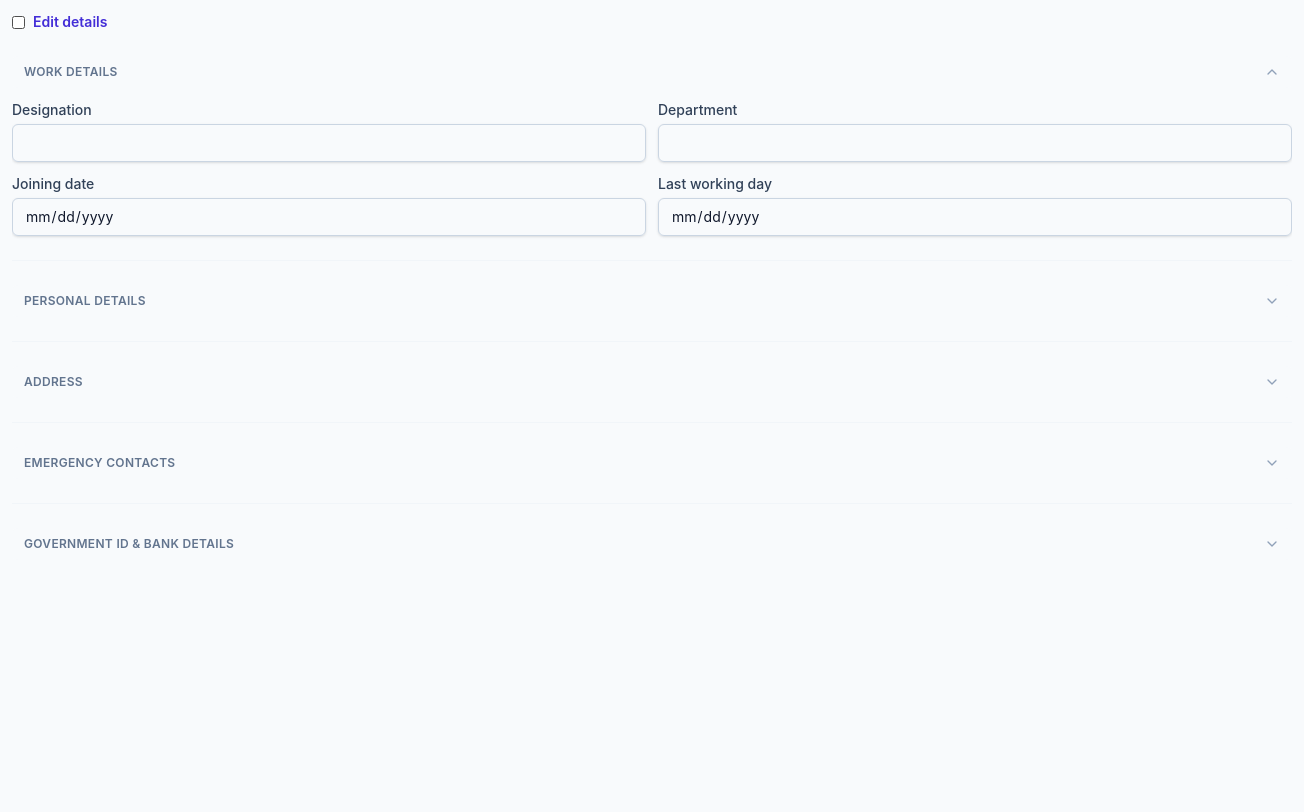
Test: ProfileForm › switches back to read-only after a successful save
Click the checkbox labelled "Edit details".
click(18, 22)  # box [12,16,25,28]
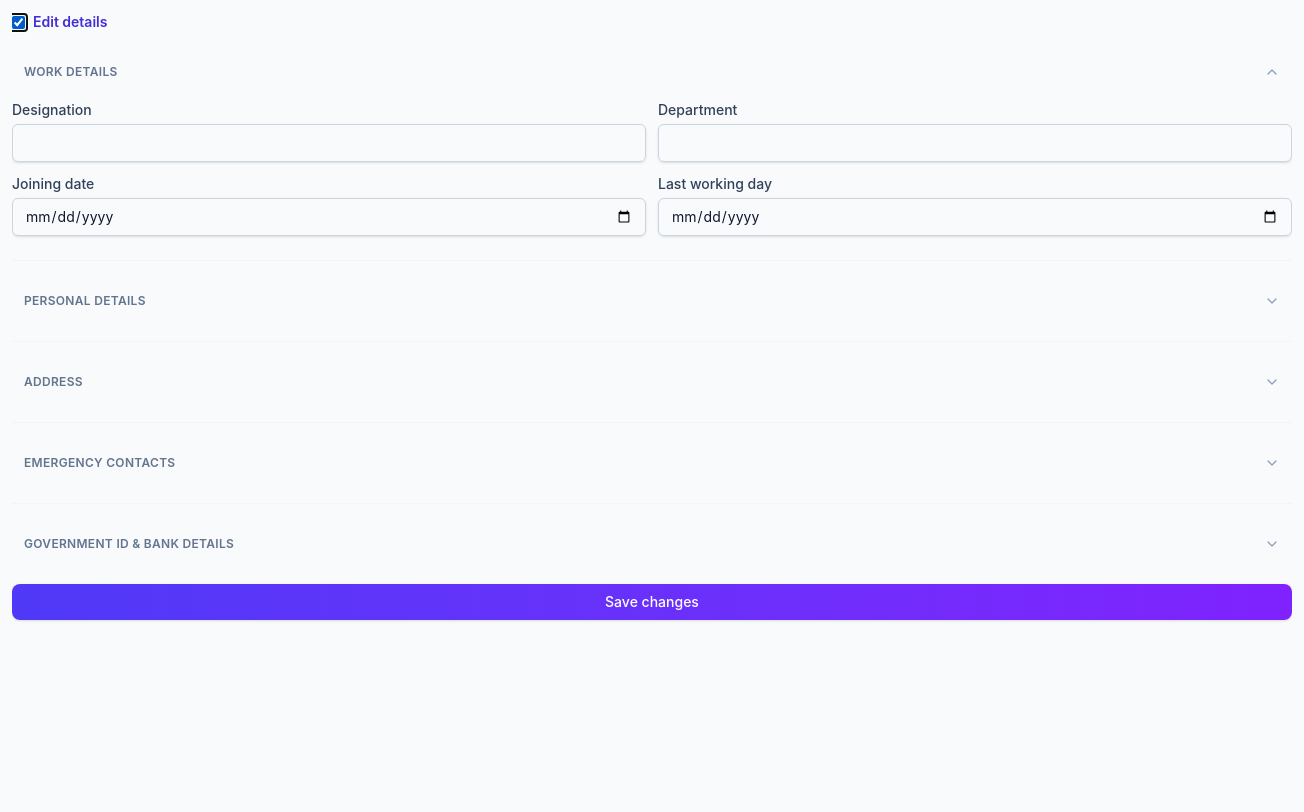
Click the button "Save changes".
click(652, 602)  # box [12,584,1292,620]
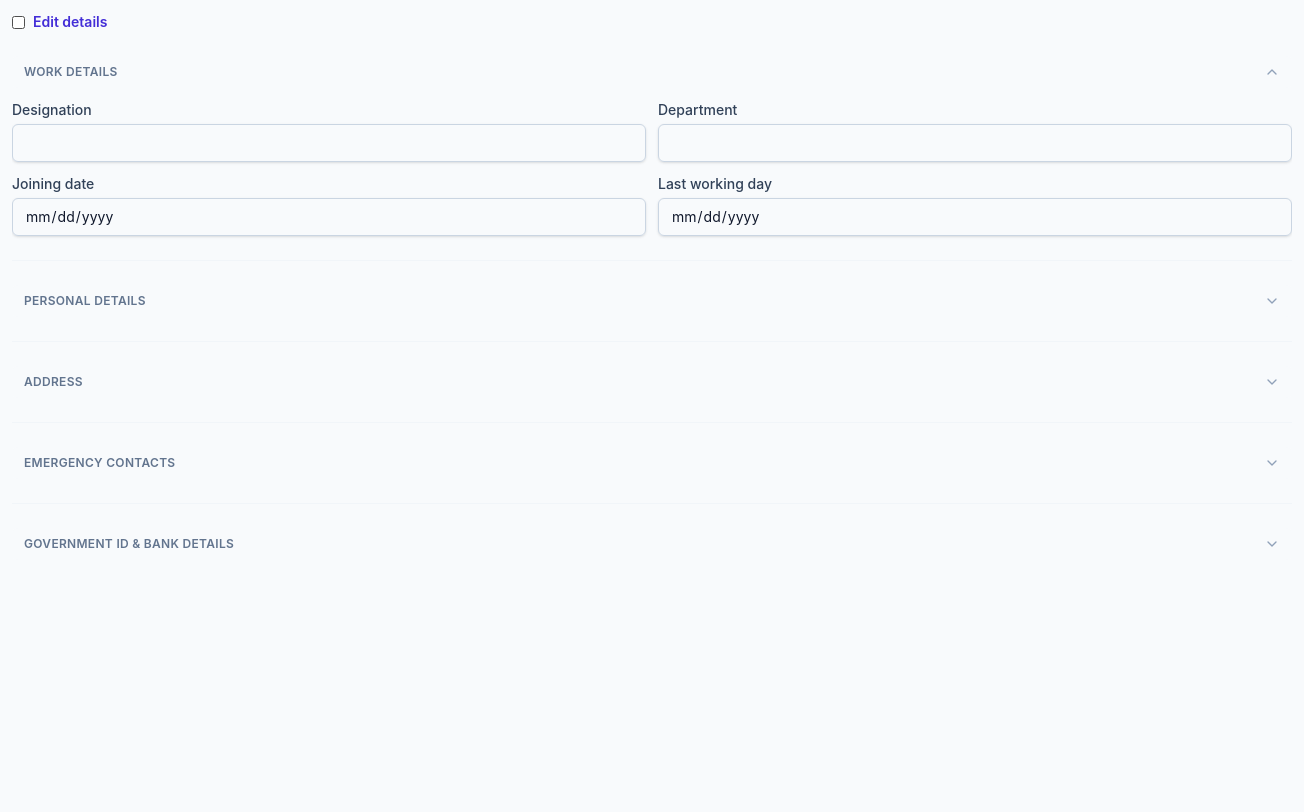
Expected: the field labelled "Designation" is disabled, [12,124,646,162]
Expected: the button "Save changes" is gone
